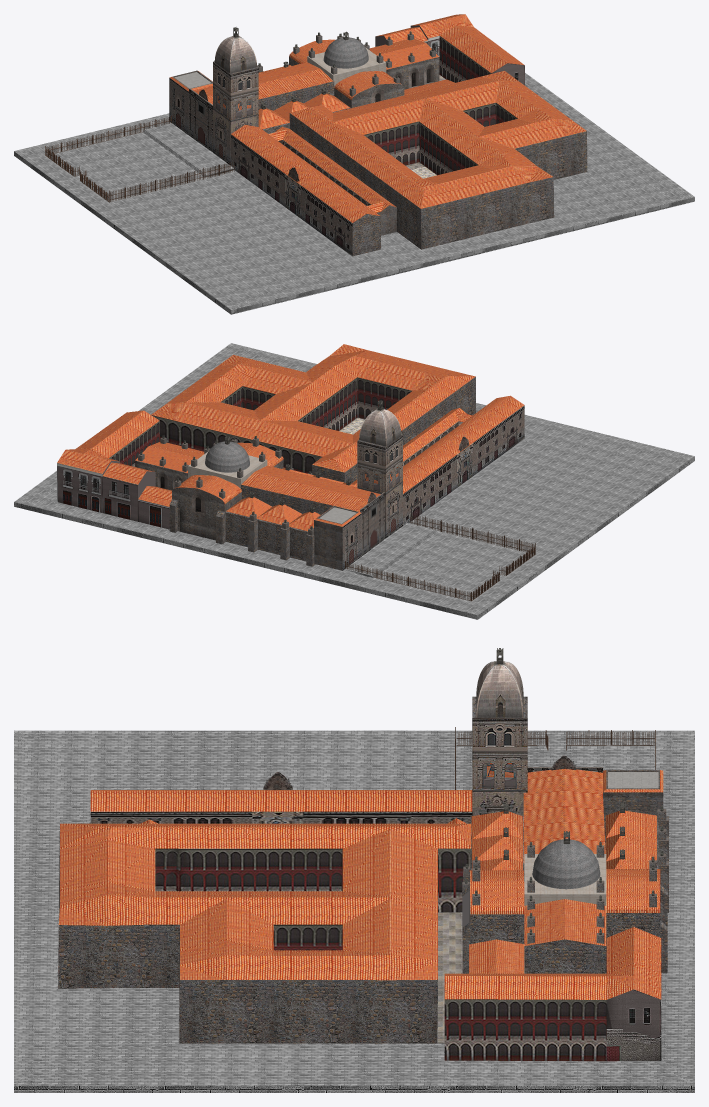
The model's file is Iglesiasanfra.fbx.
3 renders of one model, top to bottom at view 1: azimuth 30°, elevation 25°; view 2: azimuth 150°, elevation 25°; view 3: azimuth 270°, elevation 25°, orthographic. The views are drawn at different scales.
Visible parts, largest first — view 1: Cube.002, Cubo.007, der 1, Cube, Cubo.011, central 2.001, Sphere.006, der 1.001, central 2.025, central 2.039, stair_big_02, central 2.017 (+2 smaller); view 2: Cube.002, Cubo.007, Cubo.011, Cube, der 1, central 2.001, central 2.015, central 2.002, Sphere.006, stair_big_02, central 2.039, central 2.025 (+2 smaller); view 3: Cube.002, Cubo.007, Cubo.011, der 1, Cube, central 2.001, central 2.025, central 2.017, central 2.039, central 2.015, central 2.016, central 2.002 (+2 smaller).
Part boxes in pixels (left/top/right/bottom): Cube.002: left=14, top=73, right=694, bottom=314; Cubo.007: left=289, top=70, right=587, bottom=249; der 1: left=231, top=124, right=380, bottom=256; Cube: left=169, top=62, right=334, bottom=151; Cubo.011: left=375, top=14, right=524, bottom=85; central 2.001: left=213, top=27, right=258, bottom=165; Sphere.006: left=45, top=115, right=234, bottom=202; der 1.001: left=269, top=126, right=396, bottom=235; central 2.025: left=369, top=38, right=439, bottom=89; central 2.039: left=307, top=31, right=386, bottom=86; stair_big_02: left=142, top=123, right=234, bottom=177; central 2.017: left=334, top=71, right=404, bottom=108; Cube.002: left=14, top=343, right=694, bottom=619; Cubo.007: left=151, top=344, right=475, bottom=483; Cubo.011: left=57, top=410, right=171, bottom=529; Cube: left=241, top=465, right=385, bottom=570; der 1: left=403, top=395, right=524, bottom=525; central 2.001: left=357, top=400, right=402, bottom=538; central 2.015: left=169, top=475, right=241, bottom=544; central 2.002: left=225, top=492, right=320, bottom=561; Sphere.006: left=345, top=514, right=535, bottom=601; stair_big_02: left=344, top=523, right=435, bottom=577; central 2.039: left=188, top=436, right=267, bottom=488; central 2.025: left=135, top=442, right=204, bottom=490; Cube.002: left=14, top=730, right=694, bottom=1092; Cubo.007: left=58, top=823, right=471, bottom=1043; Cubo.011: left=444, top=927, right=661, bottom=1061; der 1: left=90, top=790, right=472, bottom=823; Cube: left=523, top=755, right=663, bottom=881; central 2.001: left=472, top=648, right=527, bottom=816; central 2.025: left=524, top=899, right=606, bottom=973; central 2.017: left=462, top=870, right=524, bottom=973; central 2.039: left=524, top=831, right=606, bottom=905; central 2.015: left=606, top=869, right=667, bottom=973; central 2.016: left=470, top=804, right=523, bottom=870; central 2.002: left=604, top=802, right=658, bottom=868.
Bounding box in the file's own units: 11691 × 3328 × 9483.
Materials: 89 (89 with a texture image).
